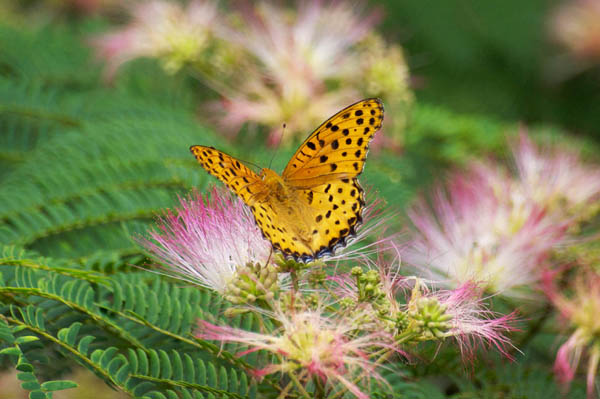Argyreus hyperbius: (185, 91, 393, 257)
butterfly: (187, 93, 395, 259)
